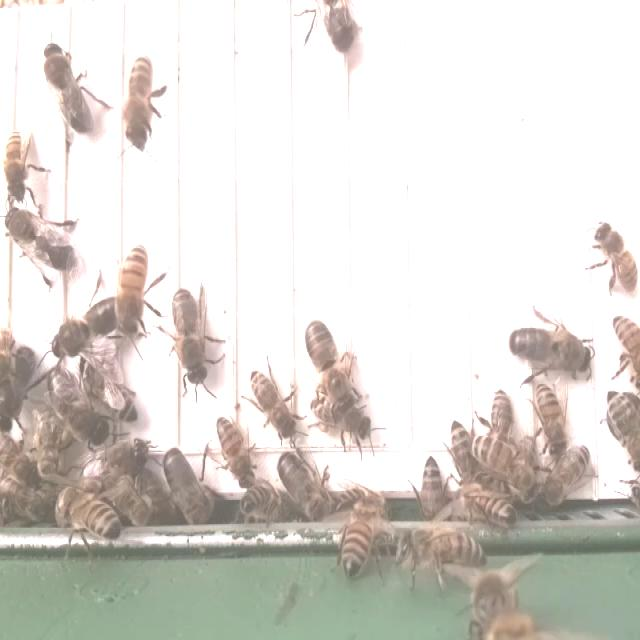Drone: (41, 364, 114, 448), (0, 205, 81, 272), (41, 38, 93, 138), (304, 318, 357, 416), (506, 323, 594, 378), (48, 296, 119, 362), (168, 284, 212, 388), (274, 447, 331, 523), (162, 443, 213, 526), (0, 342, 37, 433)
Worker: (52, 483, 123, 538), (471, 428, 534, 488), (592, 218, 640, 294), (249, 367, 297, 438), (541, 443, 592, 509), (119, 239, 150, 339), (122, 52, 156, 143), (342, 500, 379, 578), (605, 388, 640, 469), (214, 414, 254, 482), (534, 383, 569, 459), (2, 127, 30, 203)
